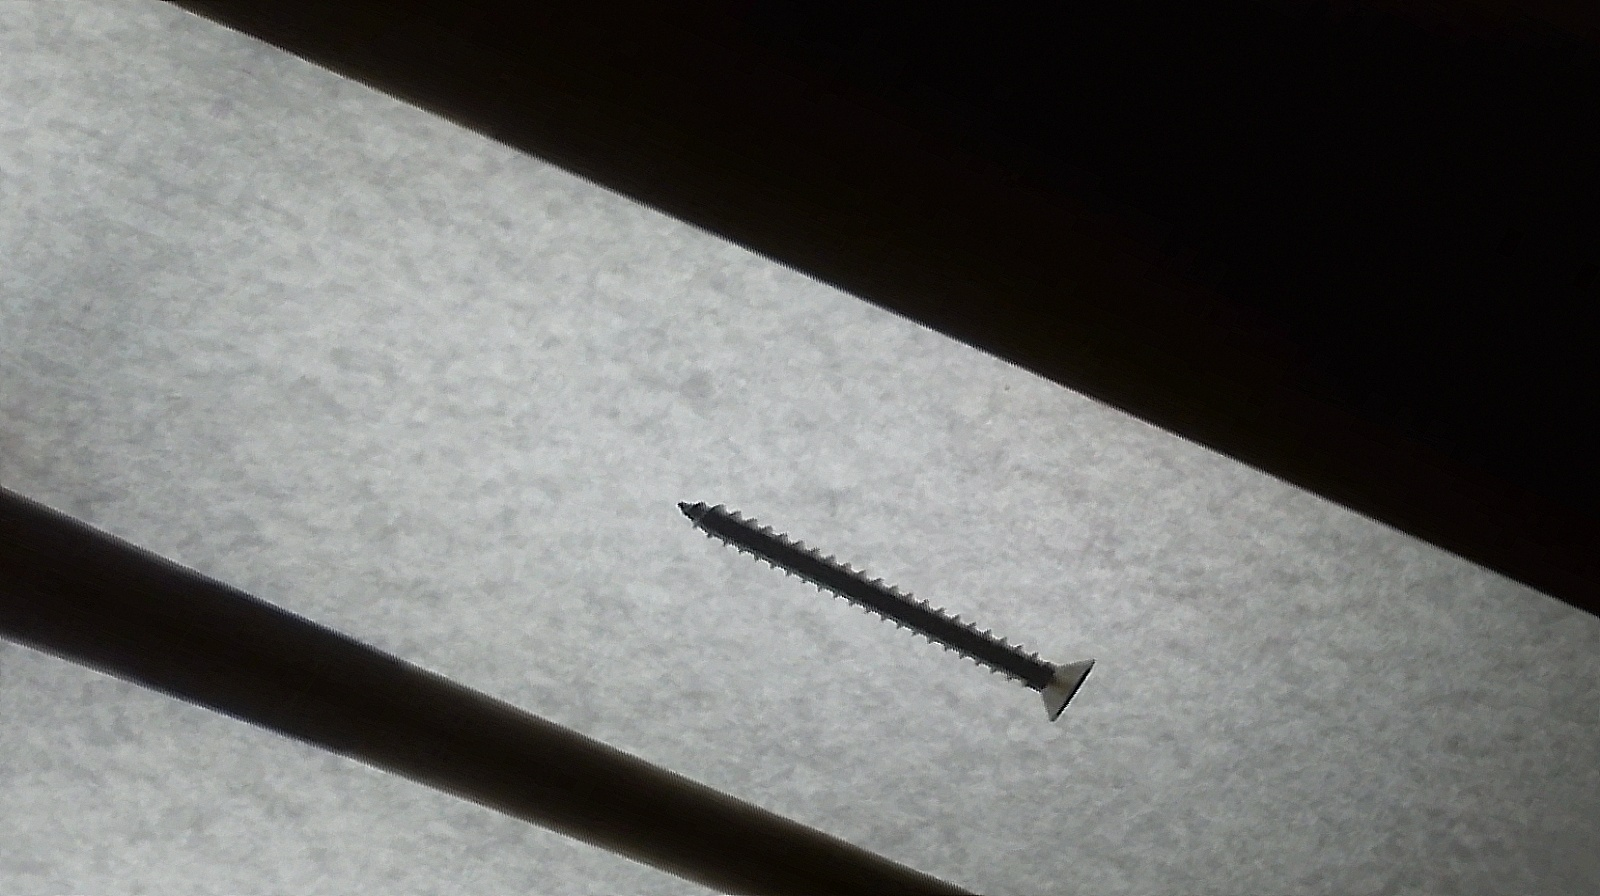S002: (613, 463, 1138, 741)
